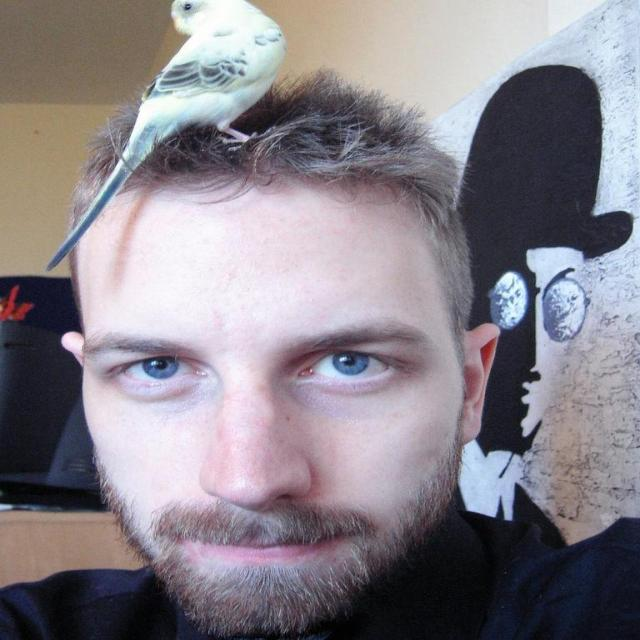no-glass: (91, 349, 411, 401)
